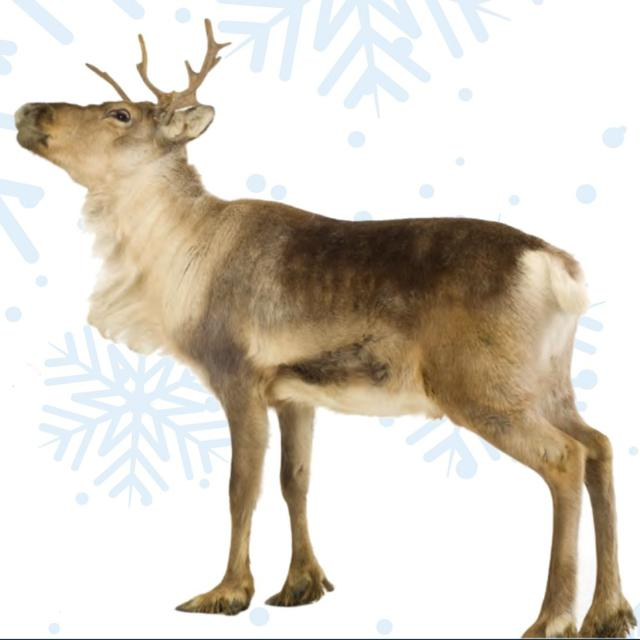reindeer: (15, 21, 635, 636)
